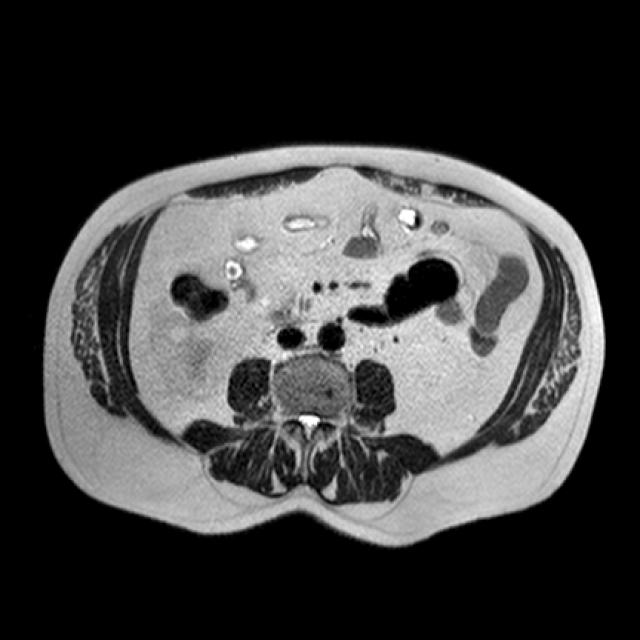sag: (160, 317, 208, 382)
